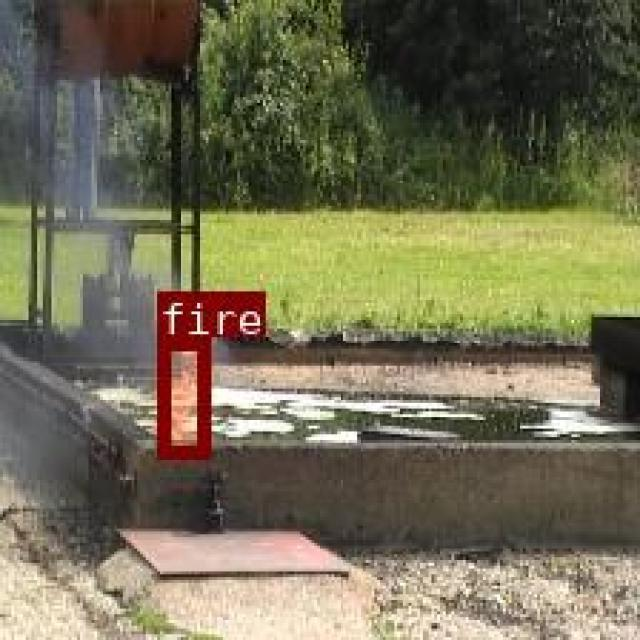fire: (157, 337, 208, 456)
